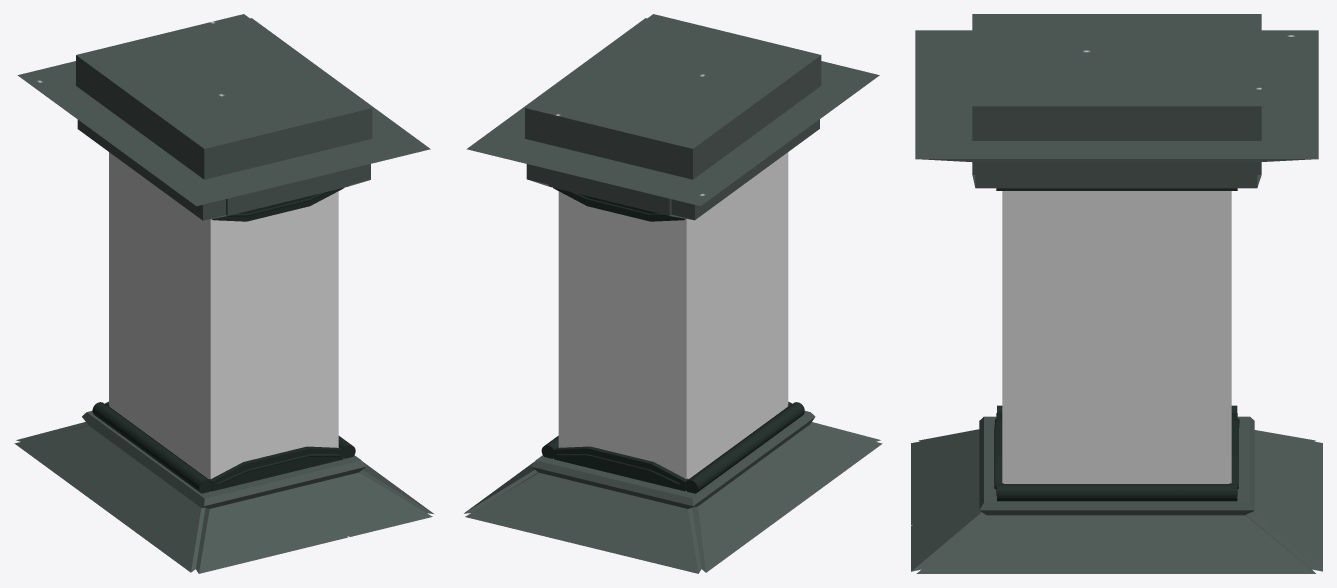
File: Server.fbx
3 views of the same model, side by side, from view 1: azimuth 30°, elevation 25°; view 2: azimuth 150°, elevation 25°; view 3: azimuth 270°, elevation 25° (orthographic). The views are drawn at different scales.
Parts seen in each view (by area): view 1: ServerWithoutGlass, Glass.001; view 2: ServerWithoutGlass, Glass.001; view 3: ServerWithoutGlass, Glass.001.
Part boxes in pixels (bbox=[...]): ServerWithoutGlass: bbox=[14, 14, 434, 573]; Glass.001: bbox=[109, 152, 338, 479]; ServerWithoutGlass: bbox=[464, 14, 882, 573]; Glass.001: bbox=[558, 152, 788, 478]; ServerWithoutGlass: bbox=[911, 14, 1322, 573]; Glass.001: bbox=[1002, 191, 1231, 483].
Bounding box in the file's own units: 51.88 × 81.08 × 67.66.
